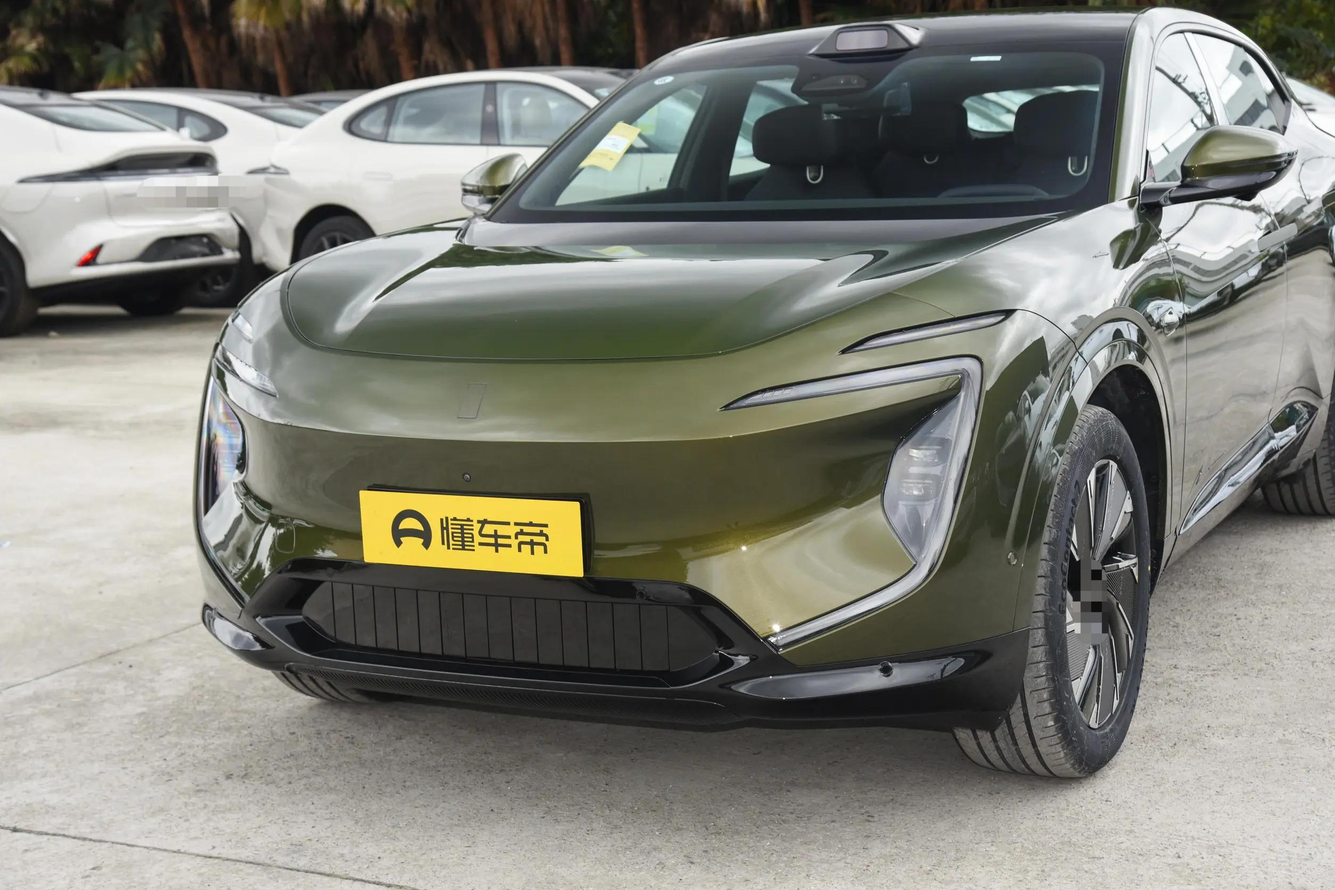AVATR: (457, 383, 488, 418)
